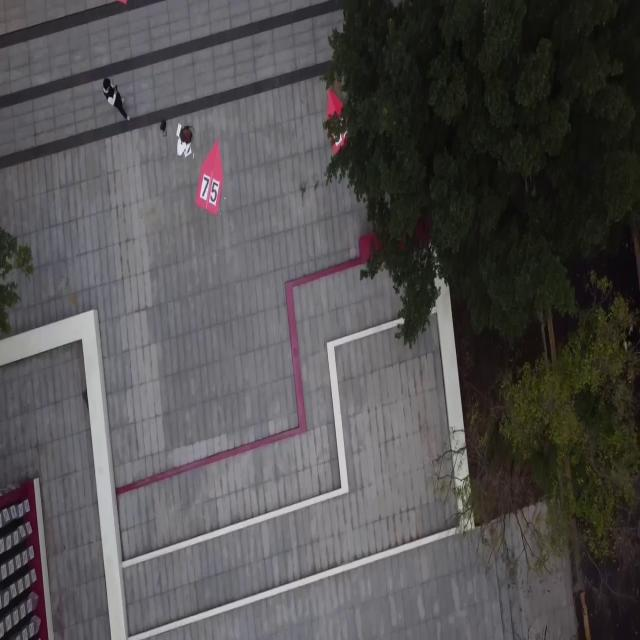-sign-: (195, 139, 223, 216)
